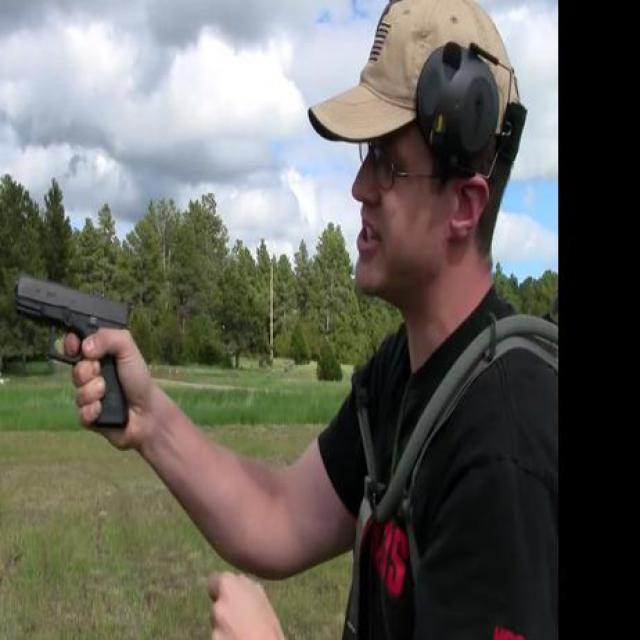gun: (11, 271, 137, 431)
